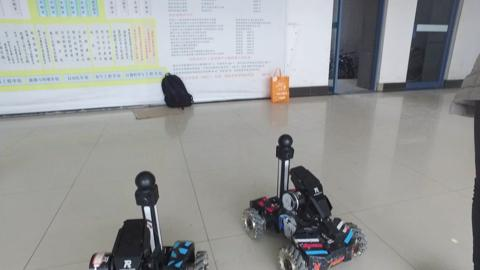bag: (157, 71, 196, 110), (265, 64, 294, 105)
chariot: (246, 132, 372, 270), (81, 166, 214, 270)
